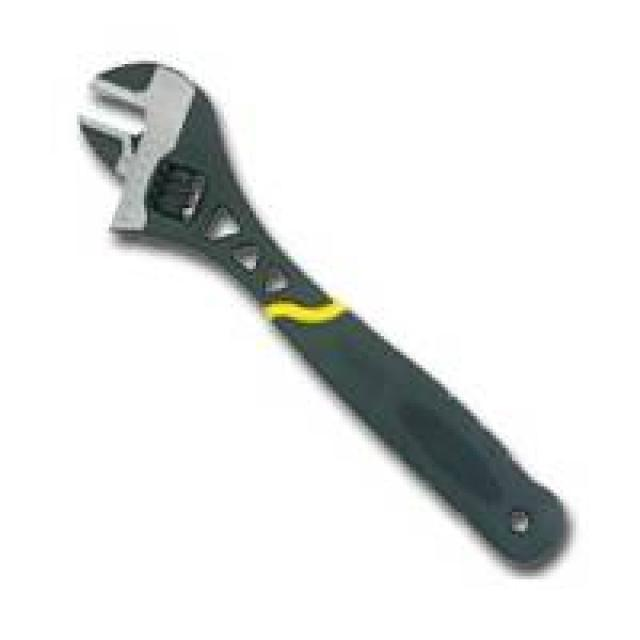wrench: (24, 21, 597, 575)
